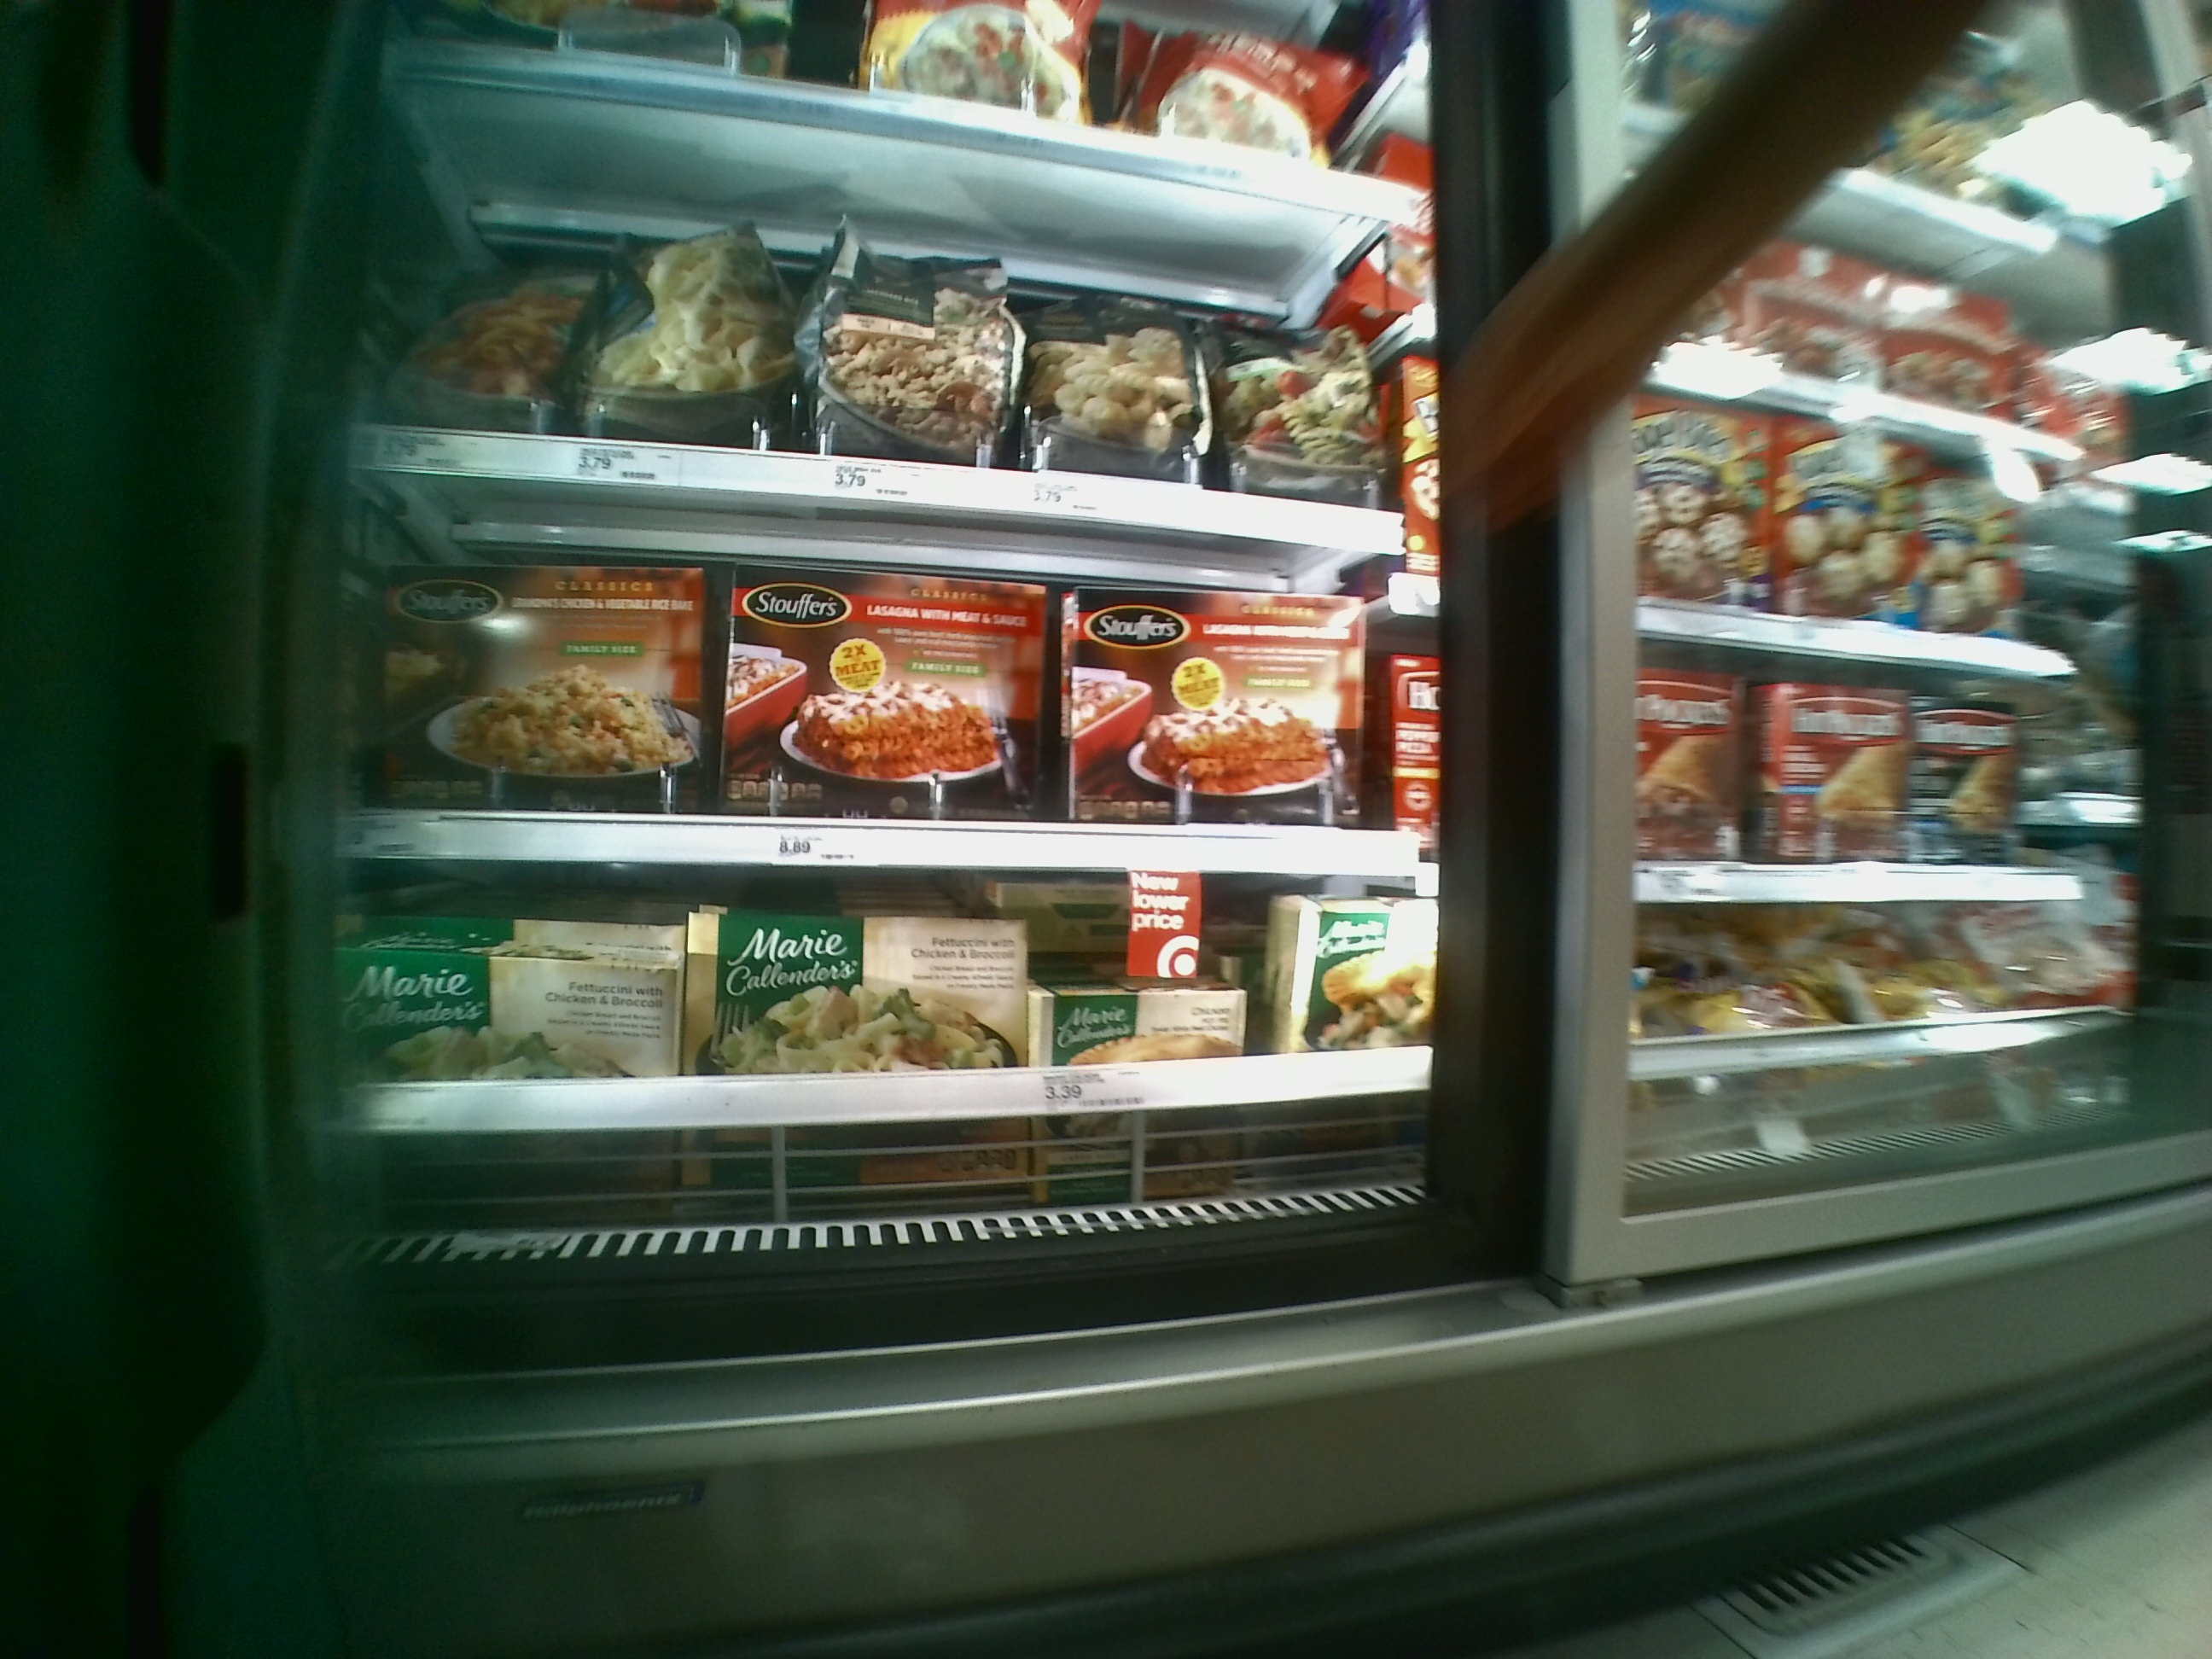shelf: (361, 225, 1399, 563), (347, 570, 1409, 870), (338, 857, 1402, 1136)
